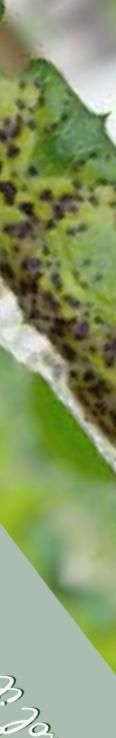Tomato Septoria leaf spot: (0, 171, 116, 462)
